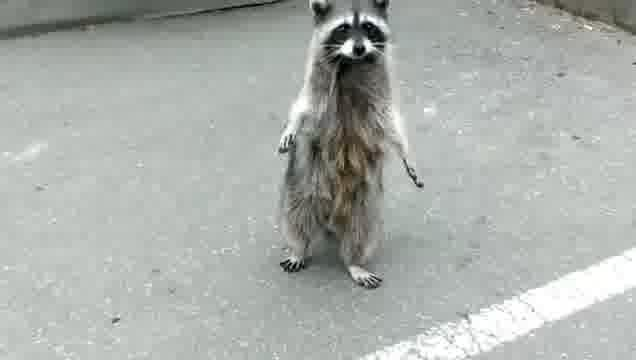raccoon: (276, 0, 426, 291)
